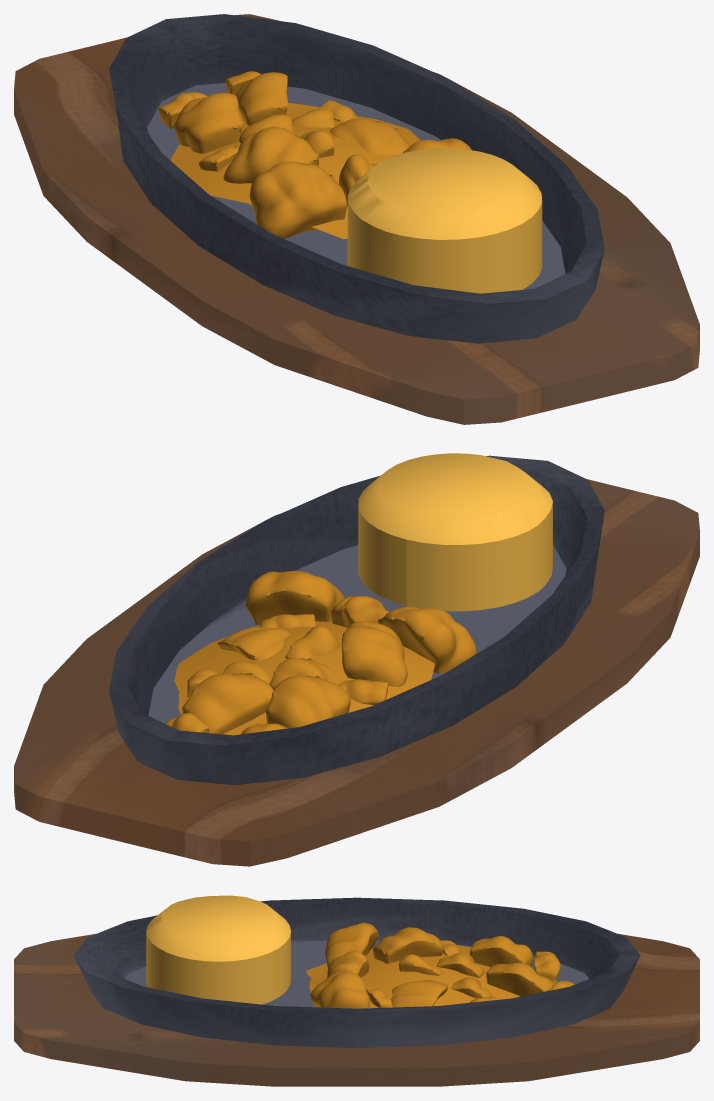
File: Liempo3D.glb
3 renders of one model, top to bottom at view 1: azimuth 30°, elevation 25°; view 2: azimuth 150°, elevation 25°; view 3: azimuth 270°, elevation 25°, orthographic. The views are drawn at different scales.
Visible parts, largest first — view 1: Plate.001, Sizzling Plate, Rice, Cube.010, Meat_lambert4_0.001, Cube.004, Cube.007, Cube.001, Cube.009, Cube.014, Cube.008, Cube.005; view 2: Plate.001, Sizzling Plate, Rice, Meat_lambert4_0.001, Cube.010, Cube.011, Cube.001, Cube.007, Cube.004, Cube.009, Cube.014, Cube.015 (+3 smaller); view 3: Plate.001, Sizzling Plate, Rice, Meat_lambert4_0.001, Cube.011, Cube.007, Cube.001, Cube.004, Cube.010, Cube.009, Cube.014, Cube.013 (+4 smaller).
Boxes of the visible parts, x1,y1,x2,y2 form: Plate.001: [14, 14, 699, 424]; Sizzling Plate: [109, 14, 604, 343]; Rice: [347, 148, 542, 293]; Cube.010: [249, 161, 346, 238]; Meat_lambert4_0.001: [170, 103, 420, 239]; Cube.004: [174, 93, 242, 153]; Cube.007: [223, 126, 318, 183]; Cube.001: [235, 72, 287, 125]; Cube.009: [330, 118, 409, 155]; Cube.014: [339, 154, 377, 207]; Cube.008: [158, 92, 207, 128]; Cube.005: [291, 109, 335, 127]; Plate.001: [14, 479, 699, 866]; Sizzling Plate: [109, 455, 604, 785]; Rice: [358, 453, 552, 611]; Meat_lambert4_0.001: [174, 621, 434, 735]; Cube.010: [378, 606, 476, 673]; Cube.011: [245, 570, 344, 624]; Cube.001: [182, 673, 273, 734]; Cube.007: [341, 621, 407, 686]; Cube.004: [265, 676, 350, 727]; Cube.009: [218, 627, 290, 660]; Cube.014: [331, 596, 388, 627]; Cube.015: [285, 626, 340, 658]; Plate.001: [14, 934, 699, 1086]; Sizzling Plate: [73, 897, 640, 1048]; Rice: [146, 895, 290, 1004]; Meat_lambert4_0.001: [306, 945, 557, 1008]; Cube.011: [310, 971, 369, 1008]; Cube.007: [373, 927, 443, 963]; Cube.001: [486, 962, 553, 996]; Cube.004: [470, 936, 533, 966]; Cube.010: [325, 922, 378, 968]; Cube.009: [391, 980, 448, 1007]; Cube.014: [327, 951, 369, 977]; Cube.013: [436, 952, 484, 977].
Bounding box in the file's own units: 2.15 × 0.5867 × 4.06.
Materials: 18 (18 with a texture image).
